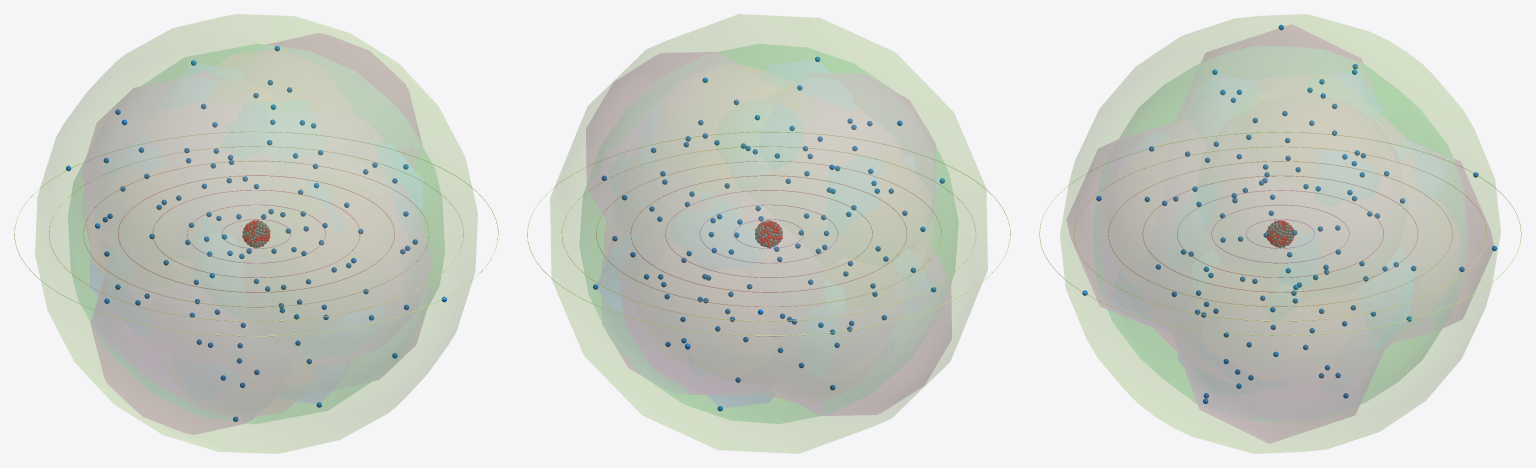
3 renders of one model, left to right at view 1: azimuth 30°, elevation 25°; view 2: azimuth 150°, elevation 25°; view 3: azimuth 270°, elevation 25°, orthographic.
Parts seen in each view (by area): view 1: Orbital_7s_0, Orbital_6s_0, Orbital_7p_2, Orbital_7p_1, Orbital_7p_0, Nivel_n7, Orbital_6d_3, Nivel_n6, Nivel_n5, Nivel_n4; view 2: Orbital_7s_0, Orbital_6s_0, Orbital_7p_2, Orbital_7p_1, Orbital_7p_0, Orbital_6d_2, Nivel_n7, Nivel_n6, Nivel_n5, Orbital_6d_3, Nivel_n4; view 3: Orbital_7s_0, Orbital_6s_0, Orbital_7p_1, Orbital_7p_0, Nivel_n7, Nivel_n6, Nivel_n5, Orbital_6d_3, Nivel_n4.
Boxes of the visible parts, box(x1,y1,x2,y2) form: Orbital_7s_0: box(35, 14, 477, 453); Orbital_6s_0: box(68, 44, 444, 423); Orbital_7p_2: box(91, 33, 421, 434); Orbital_7p_1: box(82, 71, 425, 380); Orbital_7p_0: box(86, 169, 431, 364); Nivel_n7: box(14, 131, 498, 336); Orbital_6d_3: box(90, 144, 422, 295); Nivel_n6: box(49, 146, 463, 321); Nivel_n5: box(83, 160, 429, 307); Nivel_n4: box(118, 175, 394, 292); Orbital_7s_0: box(550, 14, 987, 453); Orbital_6s_0: box(579, 44, 958, 423); Orbital_7p_2: box(586, 52, 951, 415); Orbital_7p_1: box(602, 73, 935, 393); Orbital_7p_0: box(620, 254, 795, 395); Orbital_6d_2: box(708, 60, 829, 407); Nivel_n7: box(527, 131, 1010, 336); Nivel_n6: box(561, 146, 976, 321); Nivel_n5: box(596, 160, 941, 307); Orbital_6d_3: box(597, 176, 940, 379); Nivel_n4: box(630, 175, 907, 292); Orbital_7s_0: box(1060, 14, 1500, 453); Orbital_6s_0: box(1093, 46, 1467, 421); Orbital_7p_1: box(1177, 24, 1384, 443); Orbital_7p_0: box(1067, 125, 1493, 342); Nivel_n7: box(1039, 132, 1521, 335); Nivel_n6: box(1073, 146, 1487, 321); Nivel_n5: box(1108, 161, 1452, 306); Orbital_6d_3: box(1167, 261, 1413, 348); Nivel_n4: box(1142, 175, 1418, 292).
Bounding box in the file's own units: 2.1 × 1.92 × 2.1.
